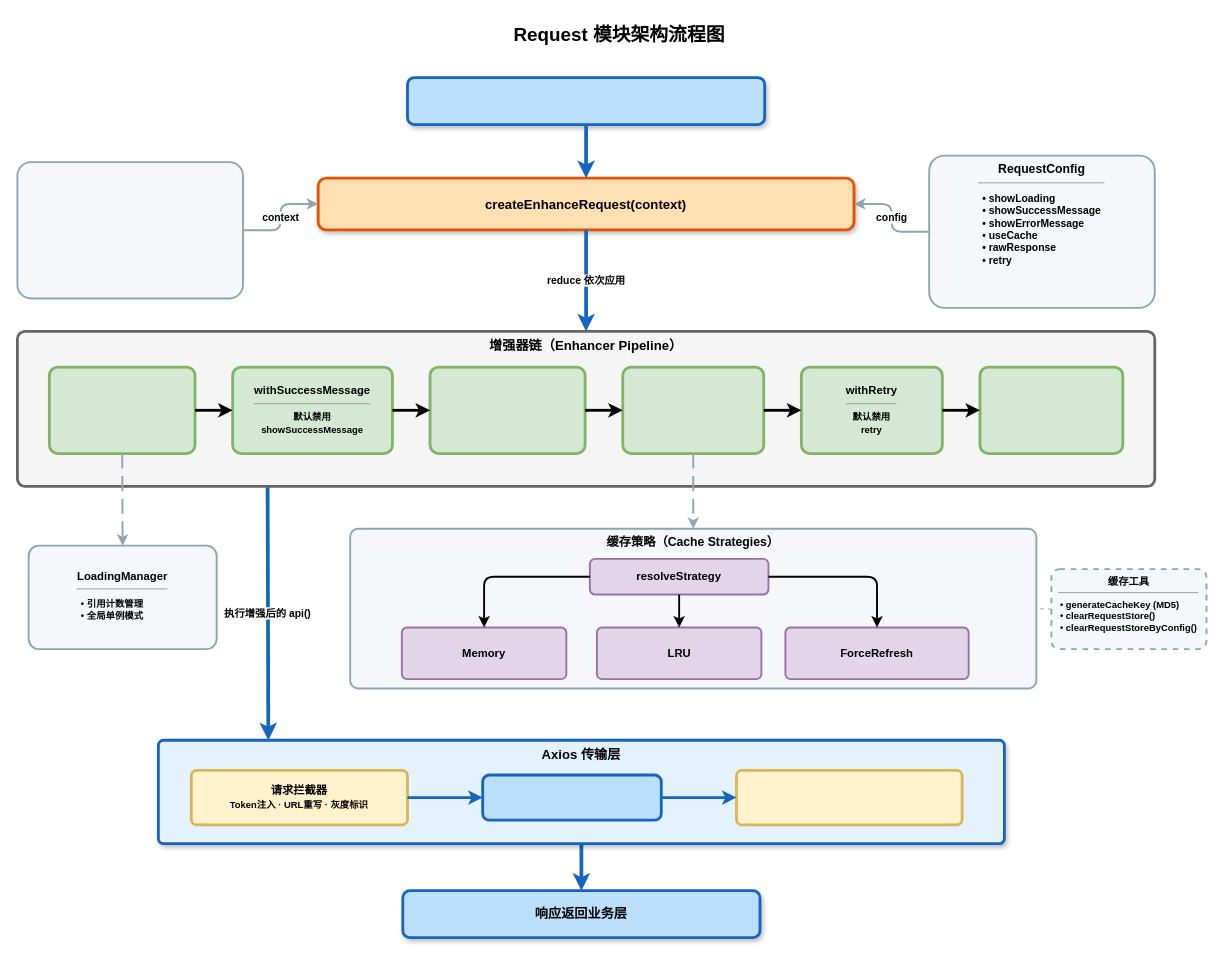
This 1224x962 diagram has some shape labels left out. The centre of each missing label's shape, as x and y in pixels:
"EnhancerContext • onError • onSuccess • loadingController • loadingDelay" goes at pixel 129 230.
"HTTP 请求" goes at pixel 571 797.
"withCache 默认禁用 useCache" goes at pixel 693 409.
"withErrorMessage 默认启用 showErrorMessage" goes at pixel 507 409.
"withLoading 默认禁用 showLoading" goes at pixel 121 409.
"withRawResponse 默认禁用 rawResponse" goes at pixel 1051 409.
"业务代码调用" goes at pixel 586 102.
"响应拦截器 状态码判断 · 登录失效 · 数据解析" goes at pixel 849 797.
